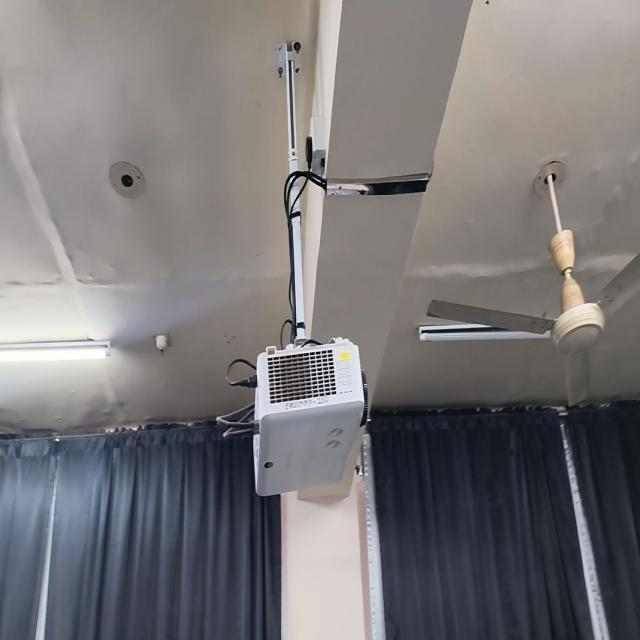Light: (0, 338, 110, 363), (419, 324, 549, 341)
Projector: (253, 328, 367, 497)
